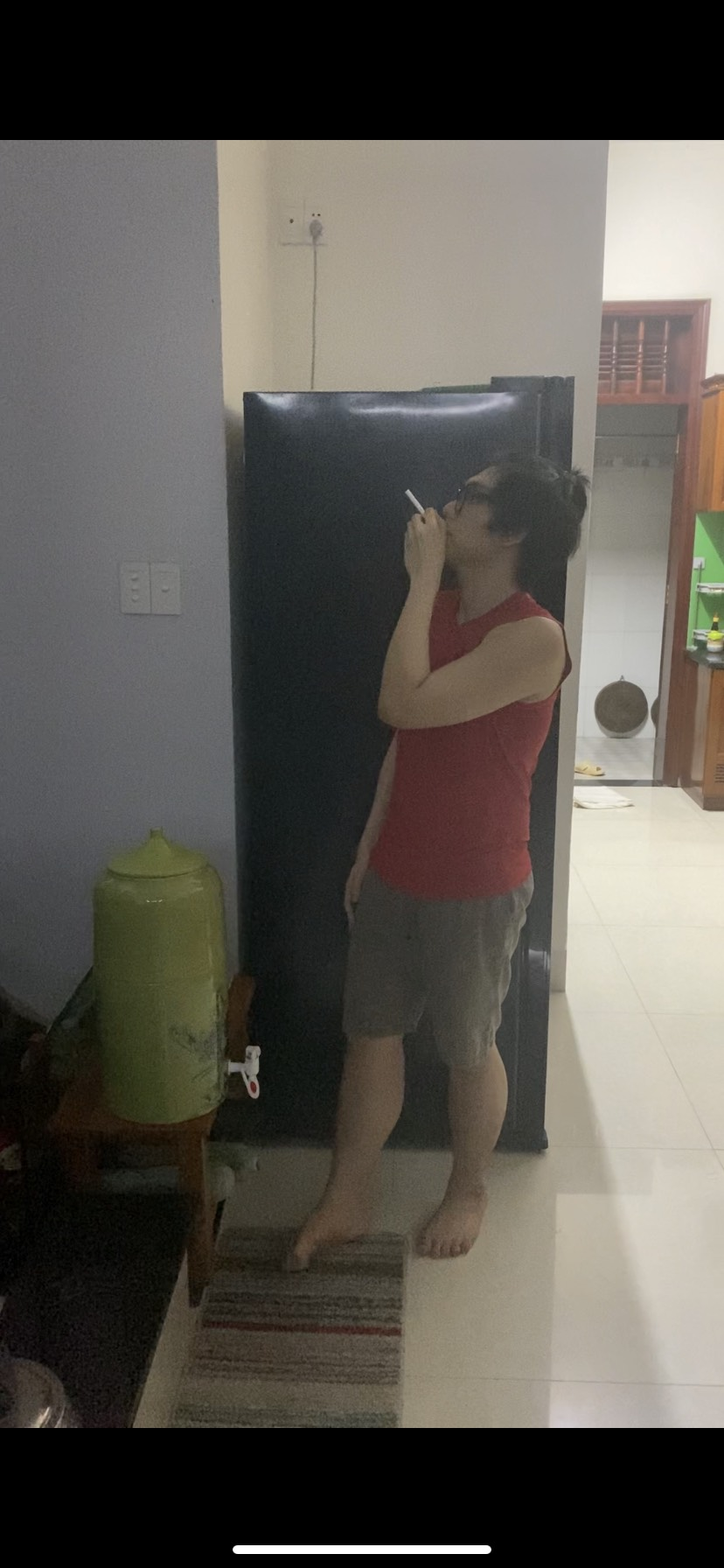cigarette: (400, 485, 428, 514)
person: (300, 410, 589, 1294)
